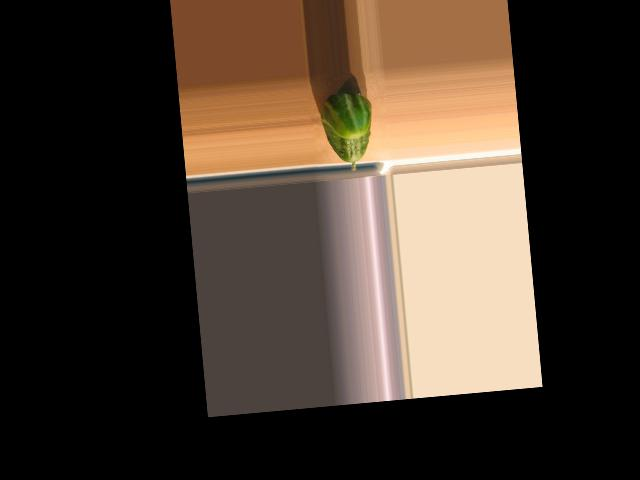cucumber: (319, 90, 377, 174)
